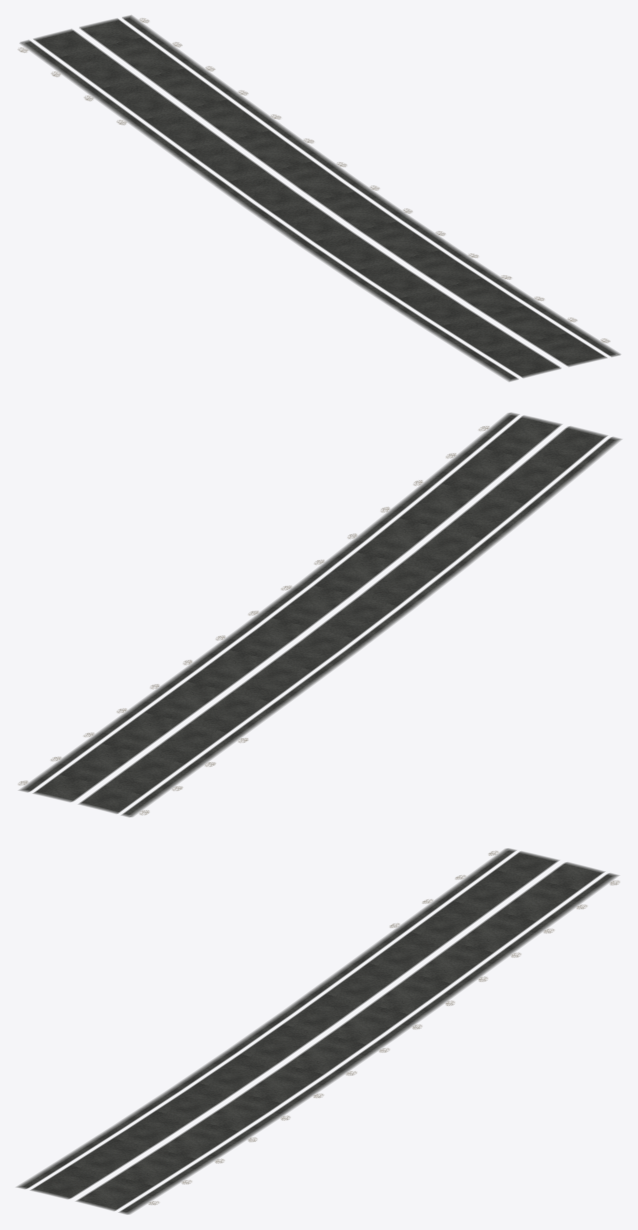
The model's file is SM_Caliche_RoadWear.glb.
3 renders of one model, top to bottom at view 1: azimuth 30°, elevation 25°; view 2: azimuth 150°, elevation 25°; view 3: azimuth 330°, elevation 25°, orthographic.
Parts seen in each view (by area): view 1: SM_Caliche_RoadWear; view 2: SM_Caliche_RoadWear; view 3: SM_Caliche_RoadWear.
Part boxes in pixels (x1,y1,x2,y2): SM_Caliche_RoadWear: [18, 15, 620, 381]; SM_Caliche_RoadWear: [18, 412, 621, 817]; SM_Caliche_RoadWear: [16, 848, 619, 1214].
Bounding box in the file's own units: 10.89 × 1.61 × 69.5.
2 materials, 2 textured.
